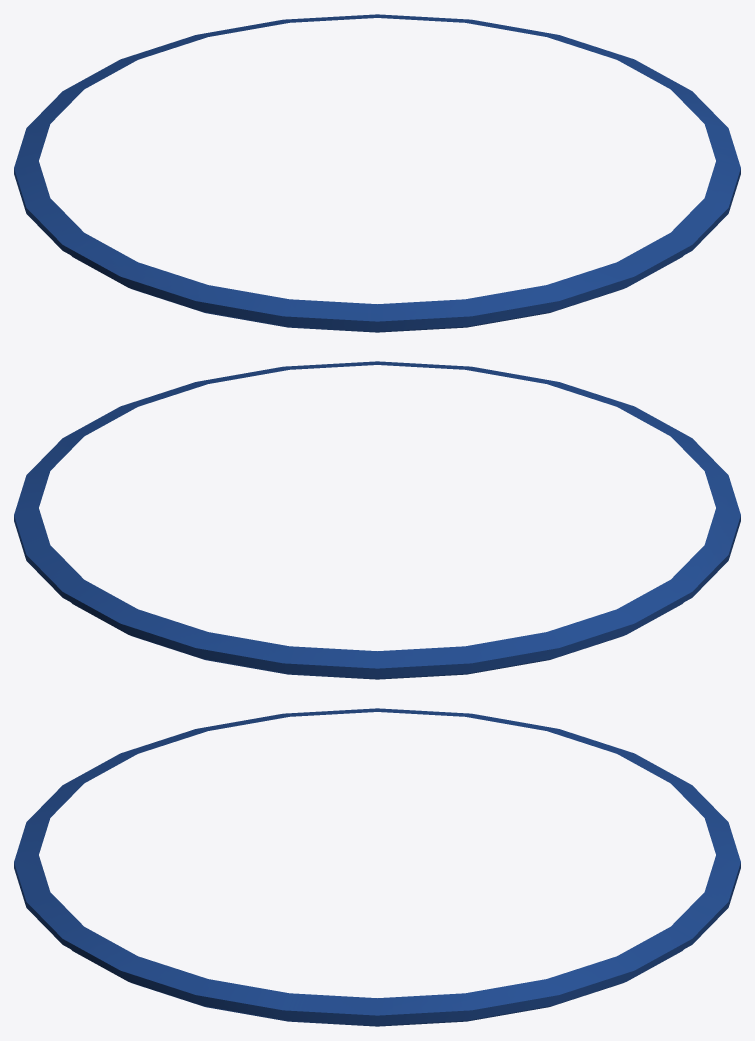
The model's file is dome.trim_top.blue.glb.
The picture shows the model from 3 angles, top to bottom: view 1: azimuth 30°, elevation 25°; view 2: azimuth 150°, elevation 25°; view 3: azimuth 270°, elevation 25°; orthographic projection.
Parts seen in each view (by area): view 1: dome_trim_top_blue; view 2: dome_trim_top_blue; view 3: dome_trim_top_blue.
Boxes of the visible parts, left/top/right/bottom form: dome_trim_top_blue: left=14, top=14, right=740, bottom=332; dome_trim_top_blue: left=14, top=361, right=740, bottom=679; dome_trim_top_blue: left=14, top=708, right=740, bottom=1026.
Size of what is drawn, in the model's own units: 7.6 by 0.3 by 7.6.
